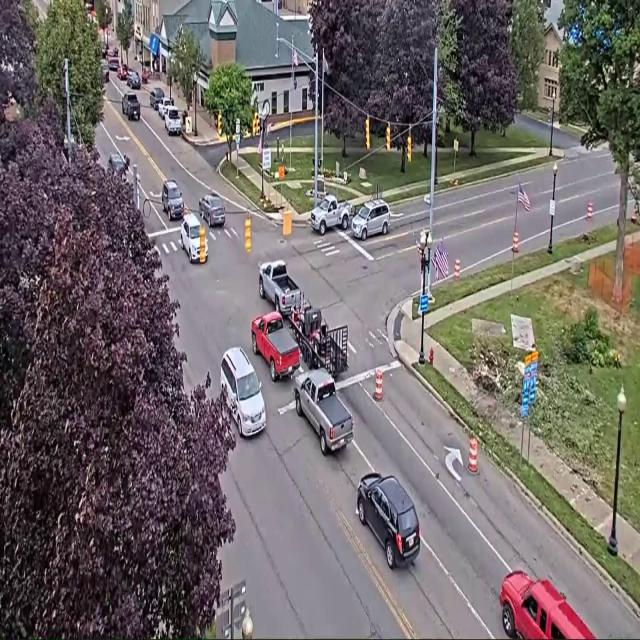car: (500, 571, 595, 639), (357, 472, 420, 568), (221, 347, 265, 436), (351, 200, 390, 239), (180, 214, 208, 263), (161, 180, 184, 220), (199, 193, 225, 226), (164, 106, 181, 135), (108, 153, 128, 177), (157, 96, 173, 119), (150, 88, 164, 110), (127, 71, 141, 89), (117, 64, 128, 80), (108, 57, 119, 71), (102, 61, 109, 83), (101, 43, 108, 58), (109, 47, 118, 57)
traffic signal: (199, 225, 206, 263), (245, 212, 251, 253), (252, 112, 259, 136), (217, 112, 223, 137), (407, 134, 412, 163), (386, 125, 390, 151), (366, 117, 369, 150)
truck: (294, 369, 353, 455), (289, 301, 347, 377), (251, 312, 299, 382), (259, 260, 301, 313), (310, 195, 352, 235), (122, 92, 140, 119)
